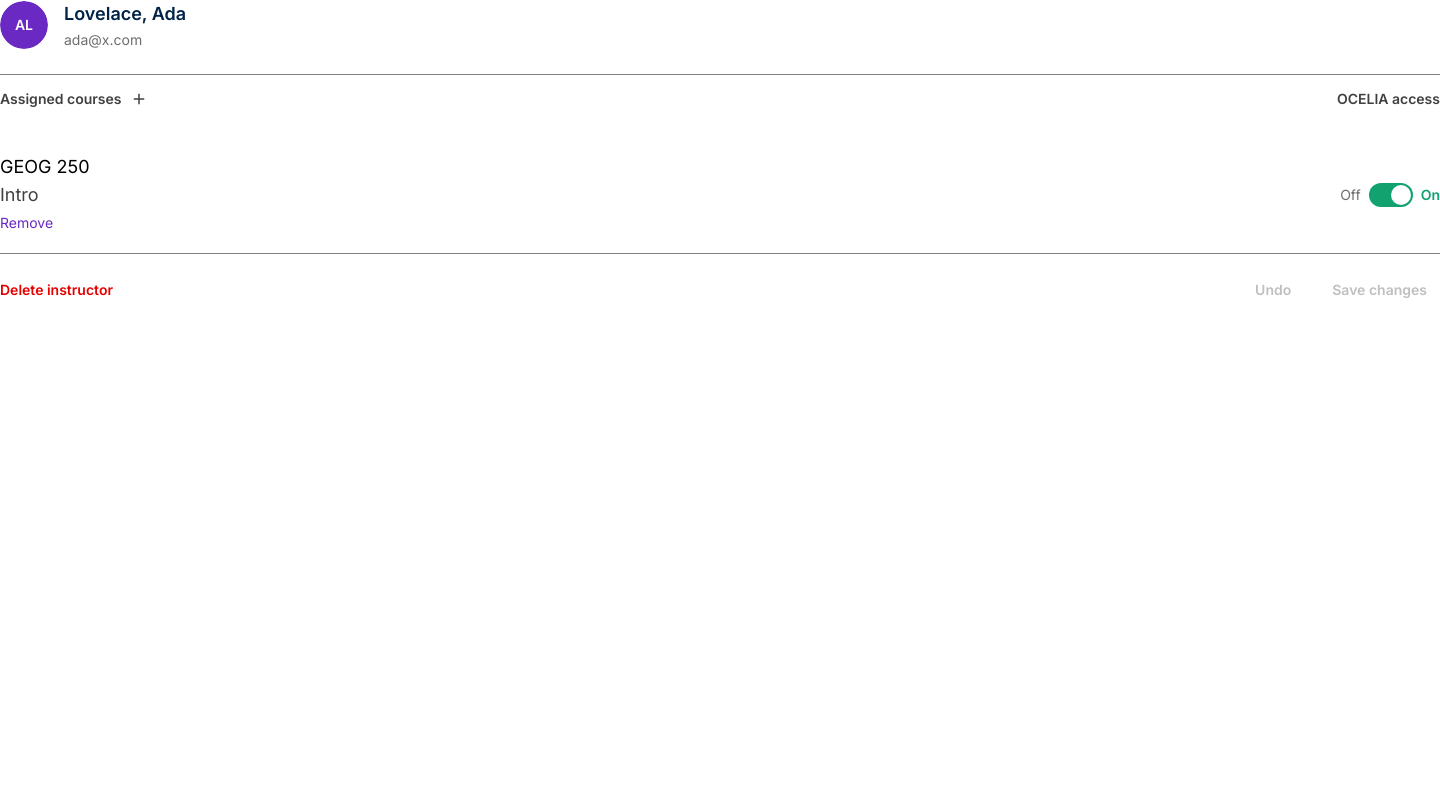
Scenario: InstructorDetail (staged editing) › Cancel on the remove confirmation aborts the save but keeps the removal staged; Undo restores
Click the button "Remove". click: coordinates (27, 223)
box: [0, 209, 53, 237]
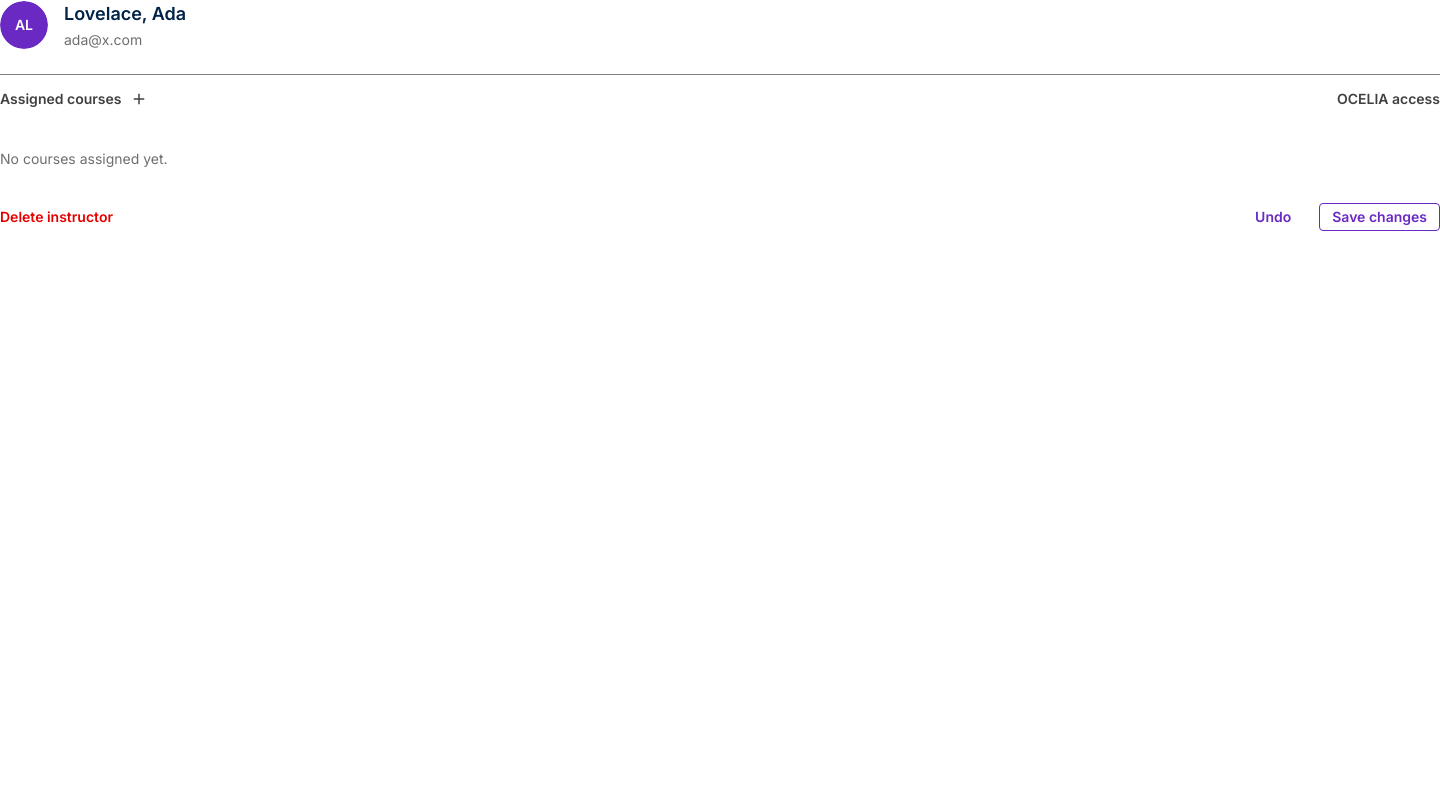
Click the button "Save changes". click: coordinates (1380, 217)
box: [1319, 203, 1439, 231]
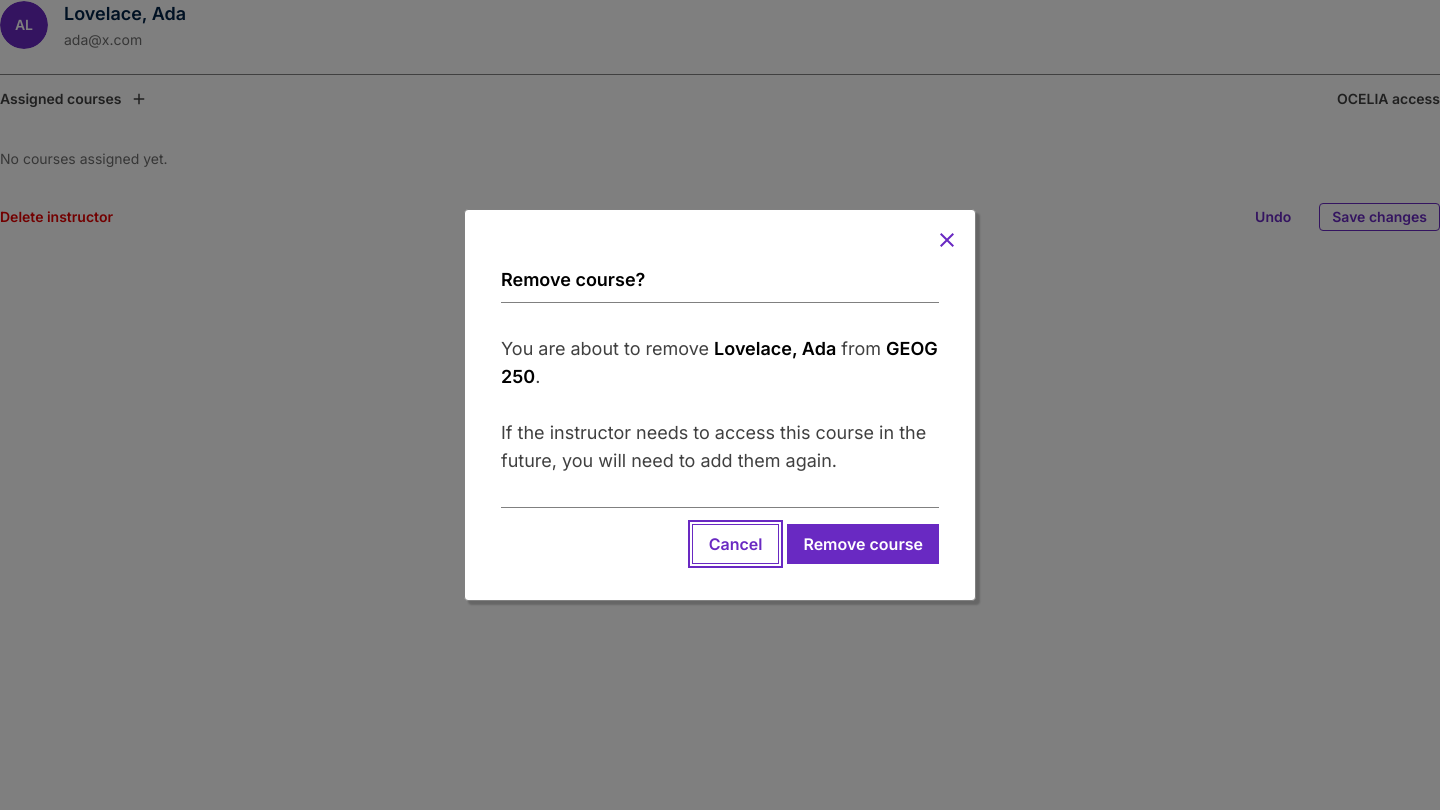
Note: Cancel just closes the confirmation — nothing is unenrolled…
Click the button "Cancel". click: coordinates (736, 544)
box: [692, 524, 779, 564]
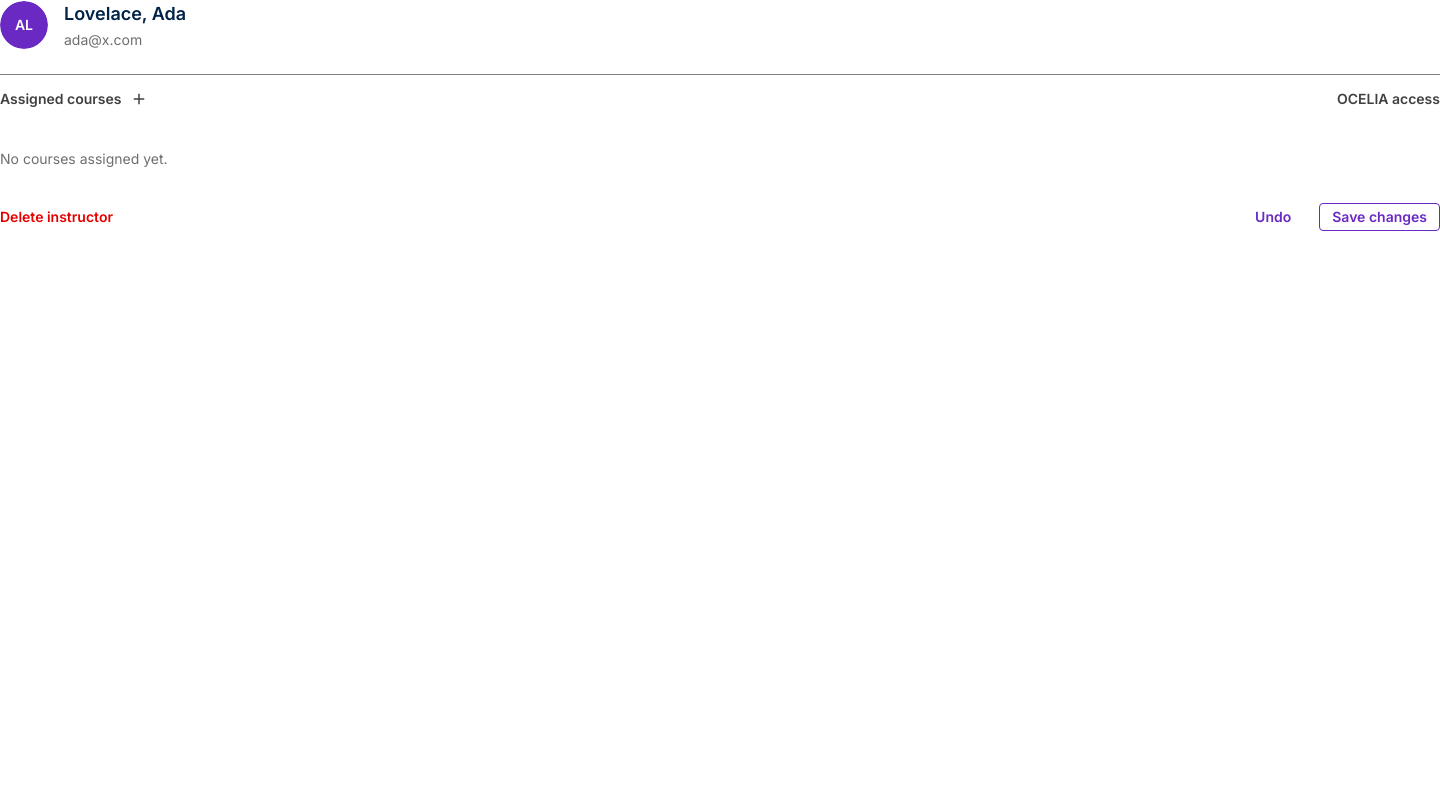
Check: the button "Save changes" is enabled, box [1319, 203, 1439, 231]
Check: the dialog is gone
Check: the text "GEOG 250" is gone
Note: Undo is what actually adds the course back.
Click the button "Undo". click: coordinates (1273, 217)
box: [1243, 203, 1303, 231]
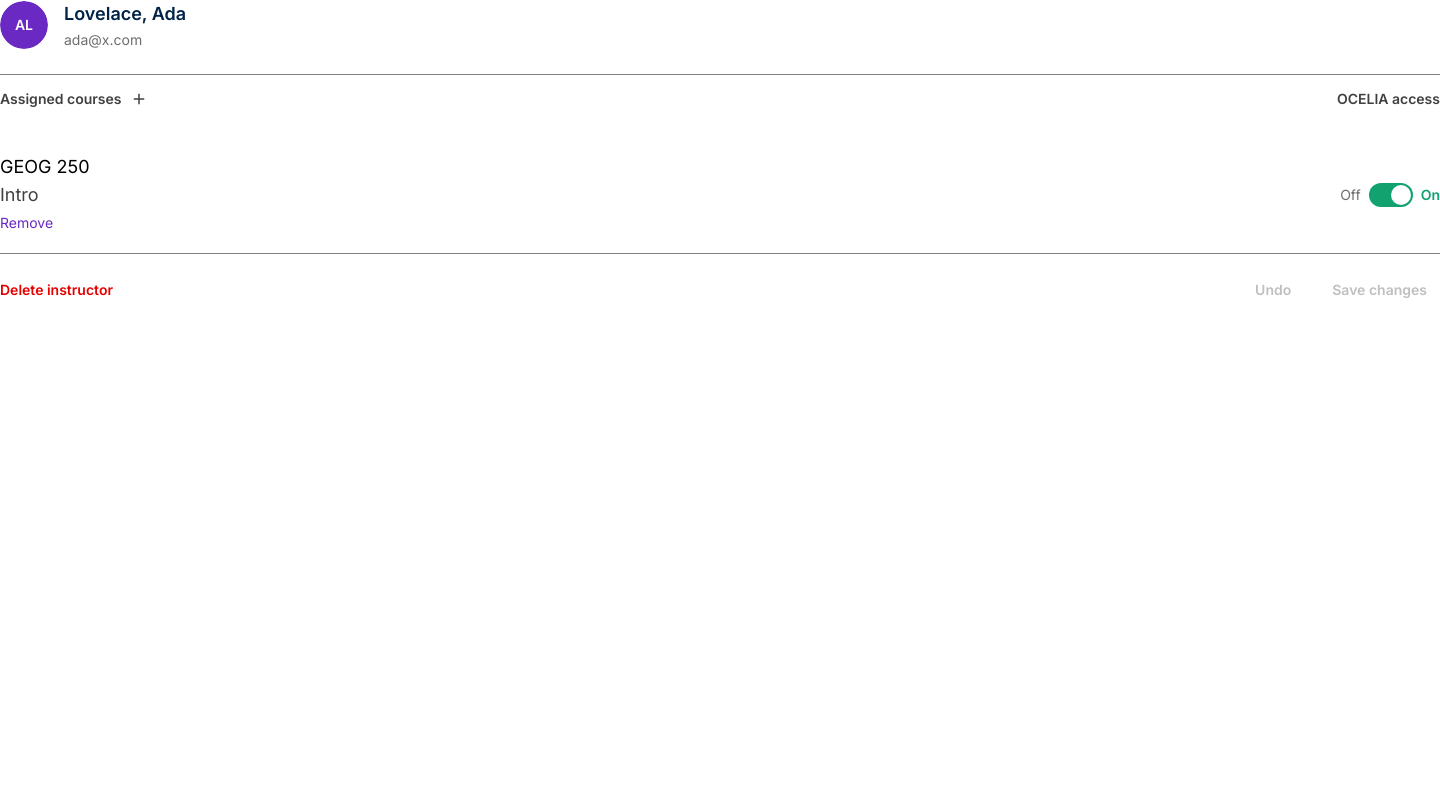
Check: the text "GEOG 250" is shown, box [0, 156, 90, 177]
